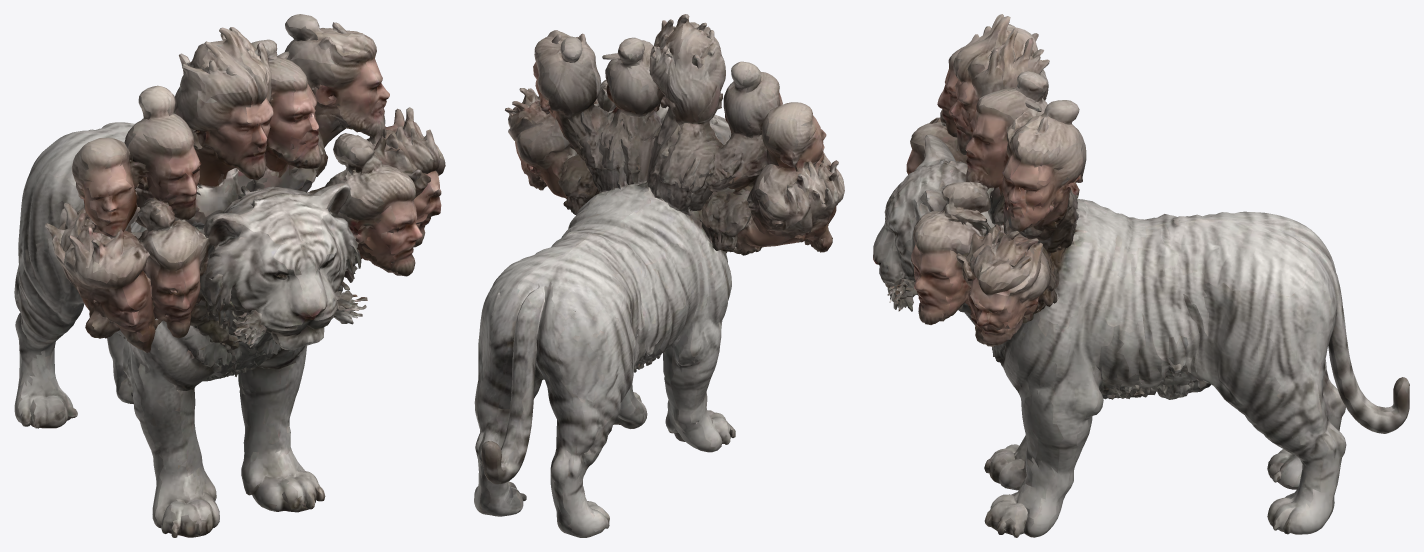
File: kaiming.glb
3 views of the same model, side by side, from view 1: azimuth 30°, elevation 25°; view 2: azimuth 150°, elevation 25°; view 3: azimuth 270°, elevation 25° (orthographic). The views are drawn at different scales.
Visible parts, largest first — view 1: geometry_0; view 2: geometry_0; view 3: geometry_0.
Part boxes in pixels (box(x1,y1,x2,y2)): geometry_0: box(14, 14, 445, 537); geometry_0: box(474, 14, 844, 537); geometry_0: box(873, 14, 1409, 537).
Bounding box in the file's own units: 2.8 × 3.49 × 3.55.
Materials: 1 (1 with a texture image).
